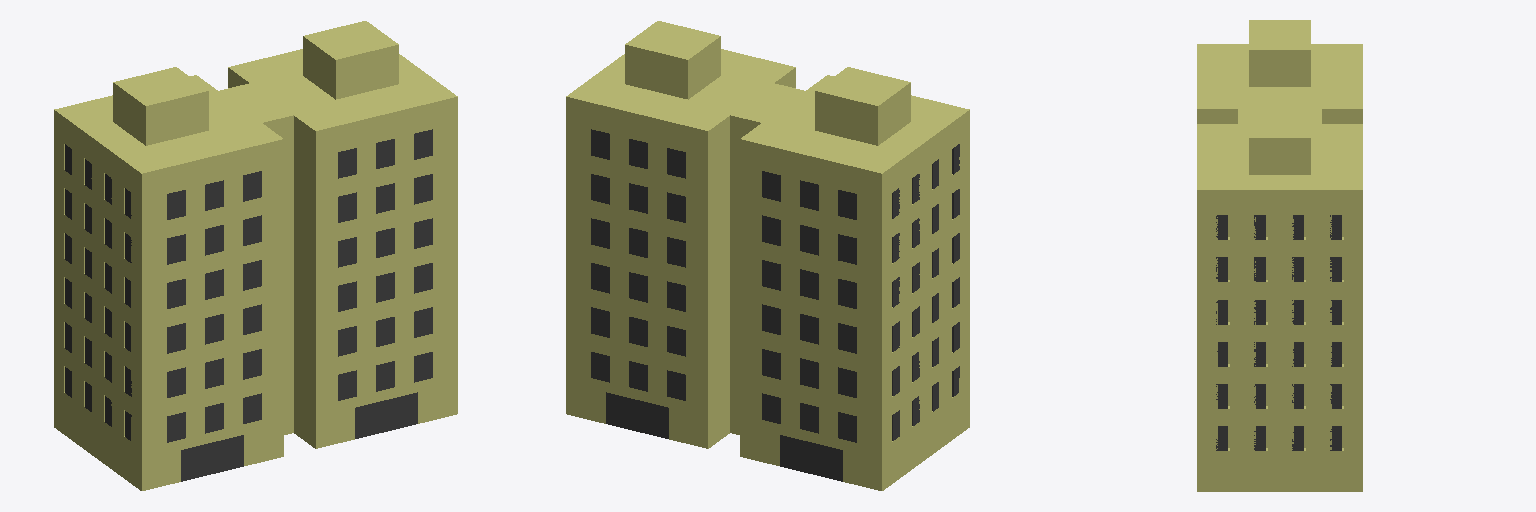
robot.urdf — building_1:
<?xml version="1.0"?> 

<!-- Copyright 2023 [author] -->

<!-- Licensed under the Apache License, Version 2.0 (the "License"); -->
<!-- you may not use this file except in compliance with the License. -->
<!-- You may obtain a copy of the License at -->

<!--     http://www.apache.org/licenses/LICENSE-2.0 -->

<!-- Unless required by applicable law or agreed to in writing, software -->
<!-- distributed under the License is distributed on an "AS IS" BASIS, -->
<!-- WITHOUT WARRANTIES OR CONDITIONS OF ANY KIND, either express or implied. -->
<!-- See the License for the specific language governing permissions and -->
<!-- limitations under the License. -->

<!-- Authors: [author], [author] -->

<robot name="building_1">
    <link name="building_1">
        <visual>
            <origin xyz="0 0 0" rpy="0 0 0" />
            <geometry>
                <mesh filename='meshes/building_1.stl' scale='0.25 0.15 0.2'/>
            </geometry>
            <material name="ochre">
                <color rgba="0.8 0.8 0.5 1"/>
            </material>
        </visual>
        <collision>
            <origin xyz="0 0 0" rpy="0 0 0" />
            <geometry>
                <mesh filename='meshes/building_1.stl' scale='0.25 0.15 0.2'/>
            </geometry>
        </collision>
        <inertial>
            <mass value="10"/>
            <inertia ixx="0.4" ixy="0.0" ixz="0.0" iyy="0.4" iyz="0.0" izz="0.2" />
        </inertial>
    </link>
    <link name="windows">
        <visual>
            <origin xyz="0 0 0" rpy="0 0 0" />
            <geometry>
                <mesh filename='meshes/building_1windows.stl' scale='0.25 0.15 0.2'/>
            </geometry>
            <material name="black">
                <color rgba="0.3 0.3 0.3 1"/>
            </material>
        </visual>
        <collision>
            <origin xyz="0 0 0" rpy="0 0 0" />
            <geometry>
                <mesh filename='meshes/building_1windows.stl' scale='0.25 0.15 0.2'/>
            </geometry>
        </collision>
        <inertial>
            <mass value="10"/>
            <inertia ixx="0.4" ixy="0.0" ixz="0.0" iyy="0.4" iyz="0.0" izz="0.2" />
        </inertial>
    </link>
    <joint name="window" type="fixed">
        <origin rpy="0 0 0" xyz="0 0 0"/>
        <parent link="building_1"/>
        <child link="windows"/>
    </joint>
    <link name="doors">
        <visual>
            <origin xyz="0 0 0" rpy="0 0 0" />
            <geometry>
                <mesh filename='meshes/building_1doors.stl' scale='0.25 0.15 0.2'/>
            </geometry>
            <material name="black">
                <color rgba="0.3 0.3 0.3 1"/>
            </material>
        </visual>
        <collision>
            <origin xyz="0 0 0" rpy="0 0 0" />
            <geometry>
                <mesh filename='meshes/building_1doors.stl' scale='0.25 0.15 0.2'/>
            </geometry>
        </collision>
        <inertial>
            <mass value="10"/>
            <inertia ixx="0.4" ixy="0.0" ixz="0.0" iyy="0.4" iyz="0.0" izz="0.2" />
        </inertial>
    </link>
    <joint name="door" type="fixed">
        <origin rpy="0 0 0" xyz="0 0 0"/>
        <parent link="building_1"/>
        <child link="doors"/>
        <axis xyz="-1 0 0"/>
    </joint>
</robot>

--- Facts derived from the render (not from the file) ---
The picture shows the robot from 3 angles, left to right: view 1: azimuth 30°, elevation 25°; view 2: azimuth 150°, elevation 25°; view 3: azimuth 270°, elevation 25°; orthographic projection.
Model building_1 with 3 links and 2 joints (2 fixed), rooted at building_1, posed every joint at zero.
Links seen in each view (by area): view 1: building_1, windows, doors; view 2: building_1, windows, doors; view 3: building_1, windows.
Boxes of the visible links, bbox=[...] form: building_1: bbox=[54, 21, 457, 490]; windows: bbox=[65, 129, 432, 442]; doors: bbox=[181, 392, 417, 481]; building_1: bbox=[566, 21, 969, 490]; windows: bbox=[591, 129, 959, 442]; doors: bbox=[606, 392, 842, 481]; building_1: bbox=[1197, 20, 1362, 491]; windows: bbox=[1216, 215, 1341, 450].
Size in the robot's own frame: 12.5 by 6 by 13.5 metres.
3 mesh visuals loaded from 3 distinct referenced files (3 binary STL).
